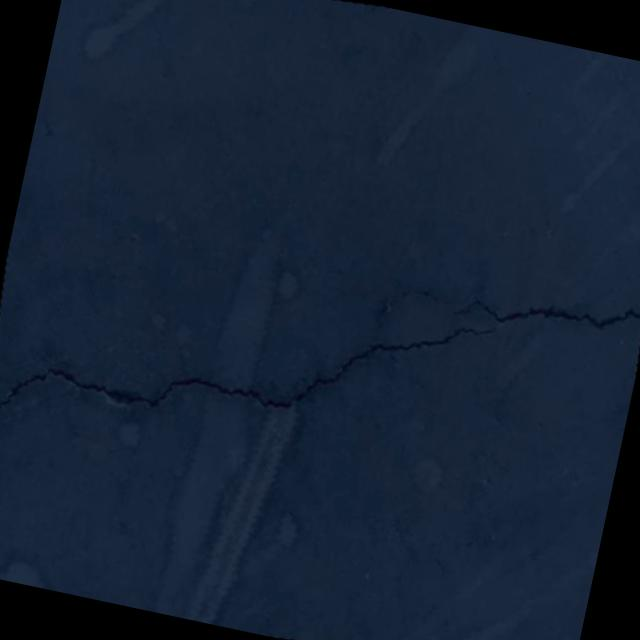crack: (0, 175, 640, 552)
